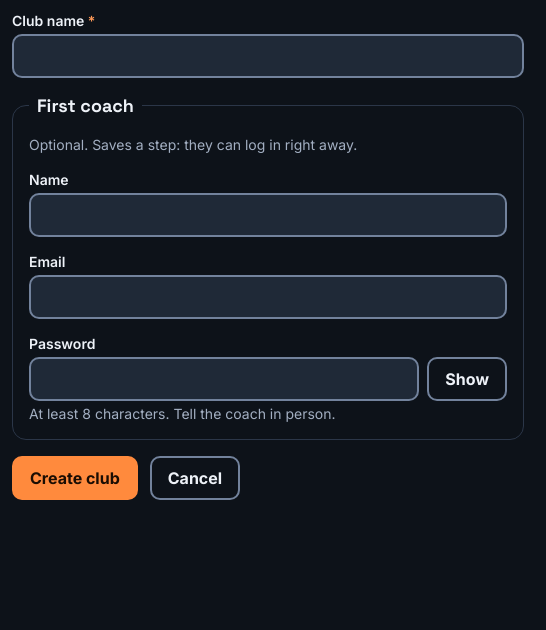
Test: CreateClubForm › keeps what was typed and clears the password
The image size is (546, 630).
Type "secret123" into the password field labelled "Password" at (224, 379), box [29,357,419,401]
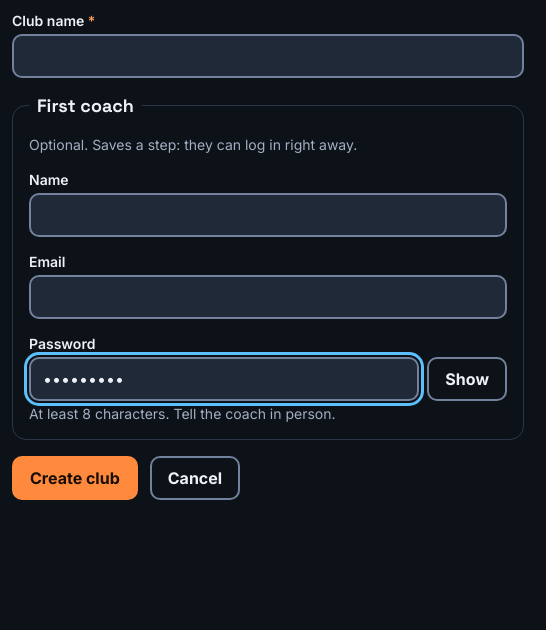
Click the button "Create club" at (75, 478), box [12,456,138,500]
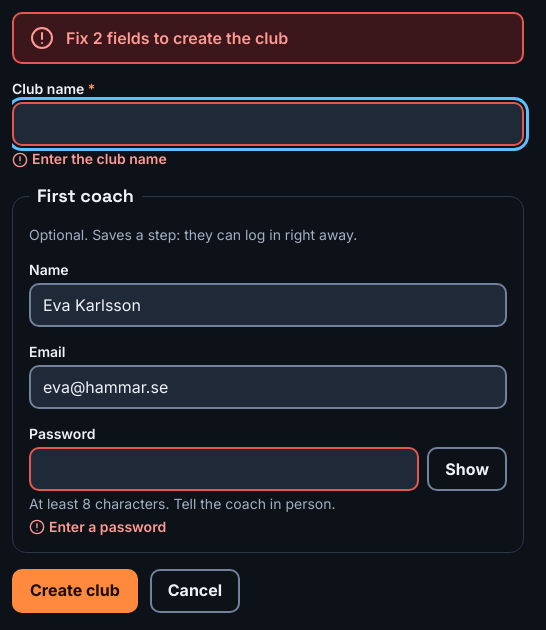
Check: the message "Fix 2 fields to create the club" is shown, box [12,12,524,64]
Check: the field labelled "Name" holds "Eva Karlsson", box [29,283,507,327]
Check: the field labelled "Email" holds "eva@hammar.se", box [29,365,507,409]
